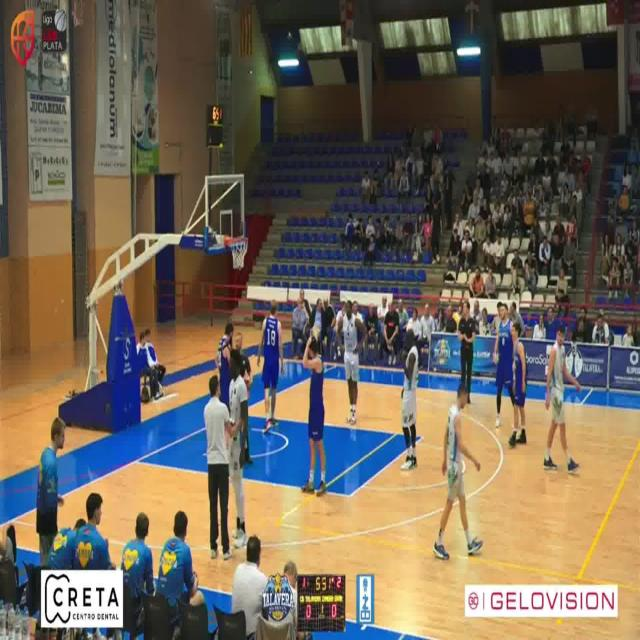ball: (242, 364, 253, 391)
basket: (224, 235, 247, 269)
bench person: (204, 375, 231, 560), (35, 417, 65, 566)
player: (434, 383, 484, 560), (545, 325, 582, 473), (301, 334, 327, 495), (229, 348, 248, 549), (336, 299, 365, 425), (257, 300, 284, 433), (494, 302, 515, 428), (402, 328, 419, 470), (509, 322, 528, 447), (459, 301, 476, 403), (217, 322, 234, 407)
referee: (234, 331, 254, 396)
